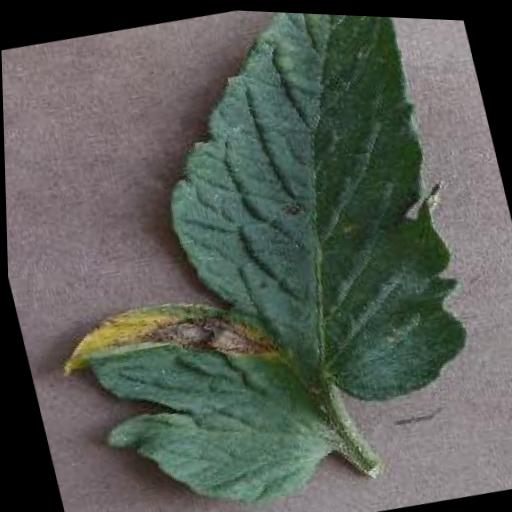Early Blight: (0, 0, 505, 512)
